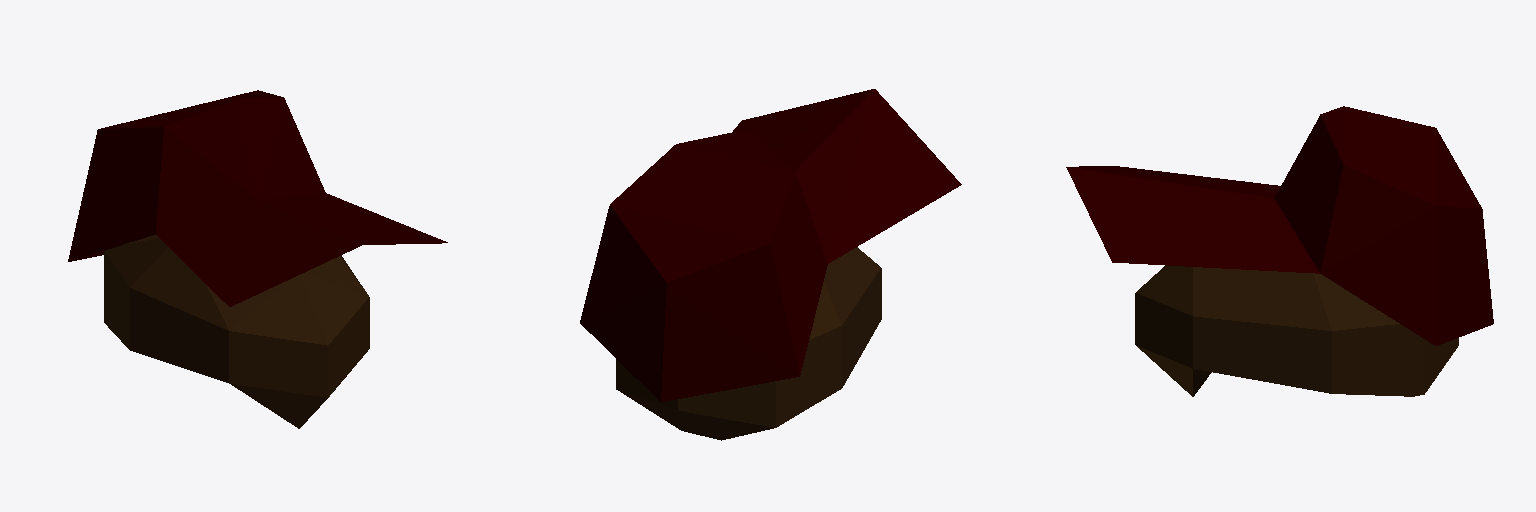
File: AntGuyHead2.obj
The picture shows the model from 3 angles: view 1: azimuth 30°, elevation 25°; view 2: azimuth 150°, elevation 25°; view 3: azimuth 270°, elevation 25°; orthographic projection.
Visible parts, largest first — view 1: body; view 2: body; view 3: body.
Part boxes in pixels (left/top/right/bottom): body: left=68, top=90, right=447, bottom=428; body: left=580, top=89, right=961, bottom=440; body: left=1066, top=106, right=1493, bottom=396.
Size of the model in its own units: 0.176 by 0.216 by 0.296.